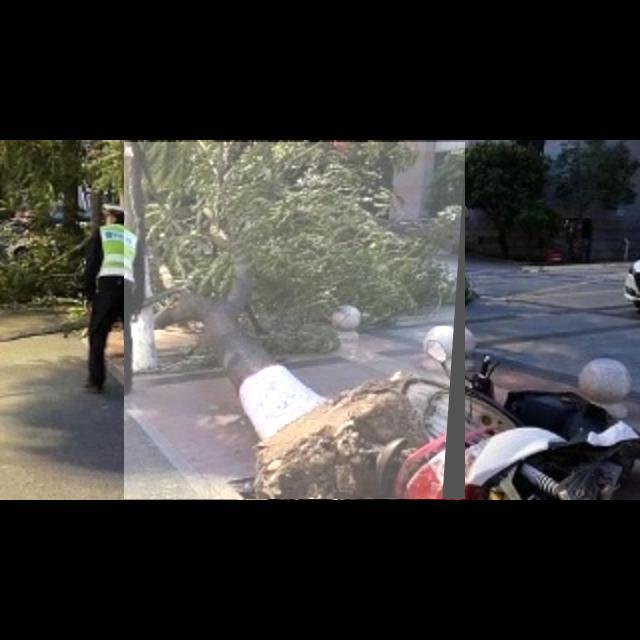fallen_tree: (124, 142, 466, 500)
